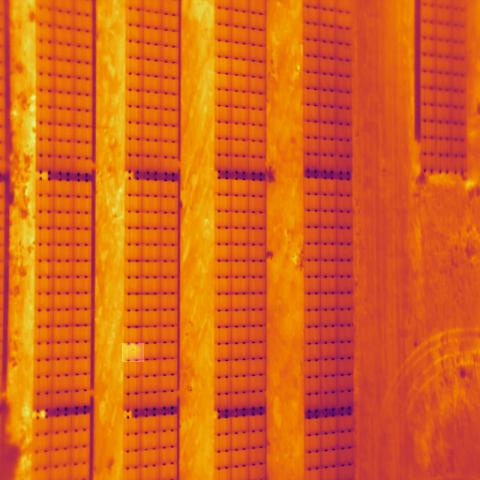fault: (122, 343, 144, 362)
